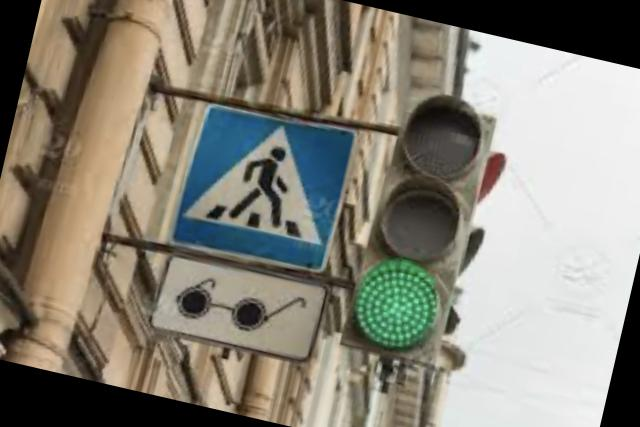crosswalk-sign: (169, 95, 359, 279)
